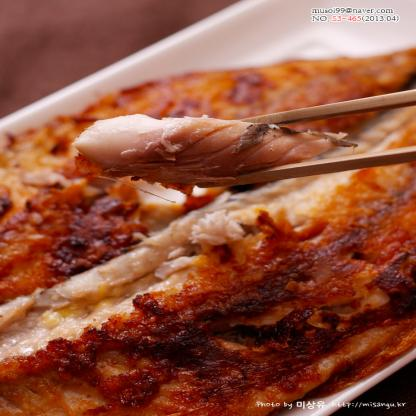Peixe: (0, 37, 416, 416)
